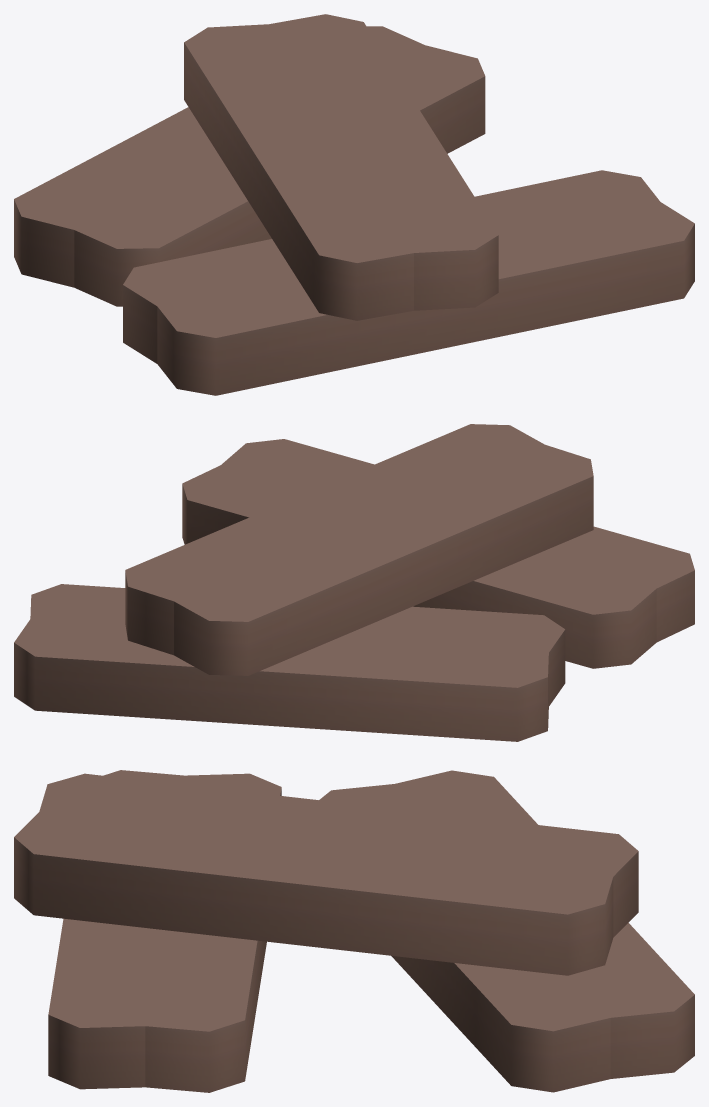
The model's file is debris-wood.glb.
3 views of the same model, one above another, from view 1: azimuth 30°, elevation 25°; view 2: azimuth 150°, elevation 25°; view 3: azimuth 270°, elevation 25° (orthographic). The views are drawn at different scales.
Visible parts, largest first — view 1: debris-wood; view 2: debris-wood; view 3: debris-wood.
Part boxes in pixels (left/top/right/bottom): debris-wood: left=14, top=14, right=694, bottom=395; debris-wood: left=14, top=424, right=694, bottom=741; debris-wood: left=14, top=770, right=694, bottom=1092.
Bounding box in the file's own units: 0.6878 × 0.15 × 0.7563.
1 material, 1 textured.
